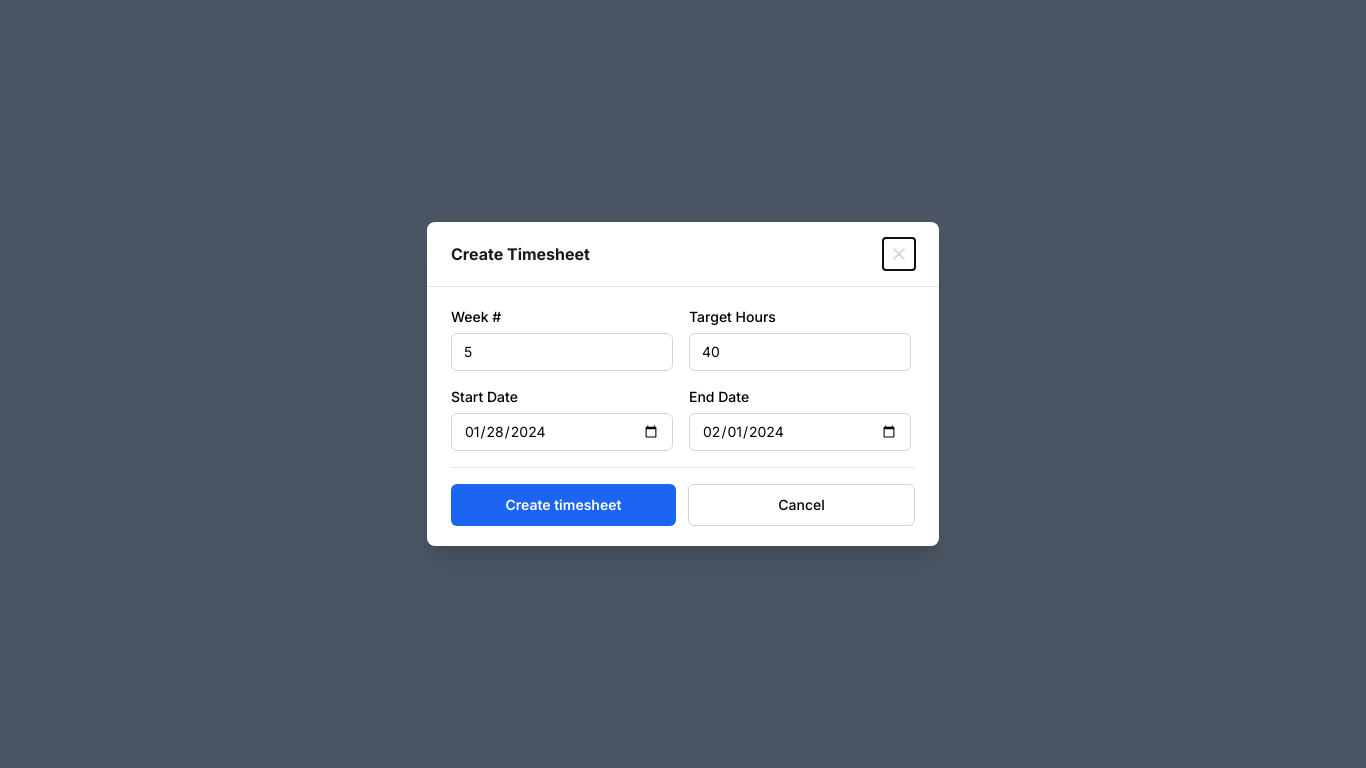
Test: TimesheetModal › shows validation errors for invalid form
Step 1. Clear the date field labelled "Start Date" → [562, 432], box [451,413,673,451]
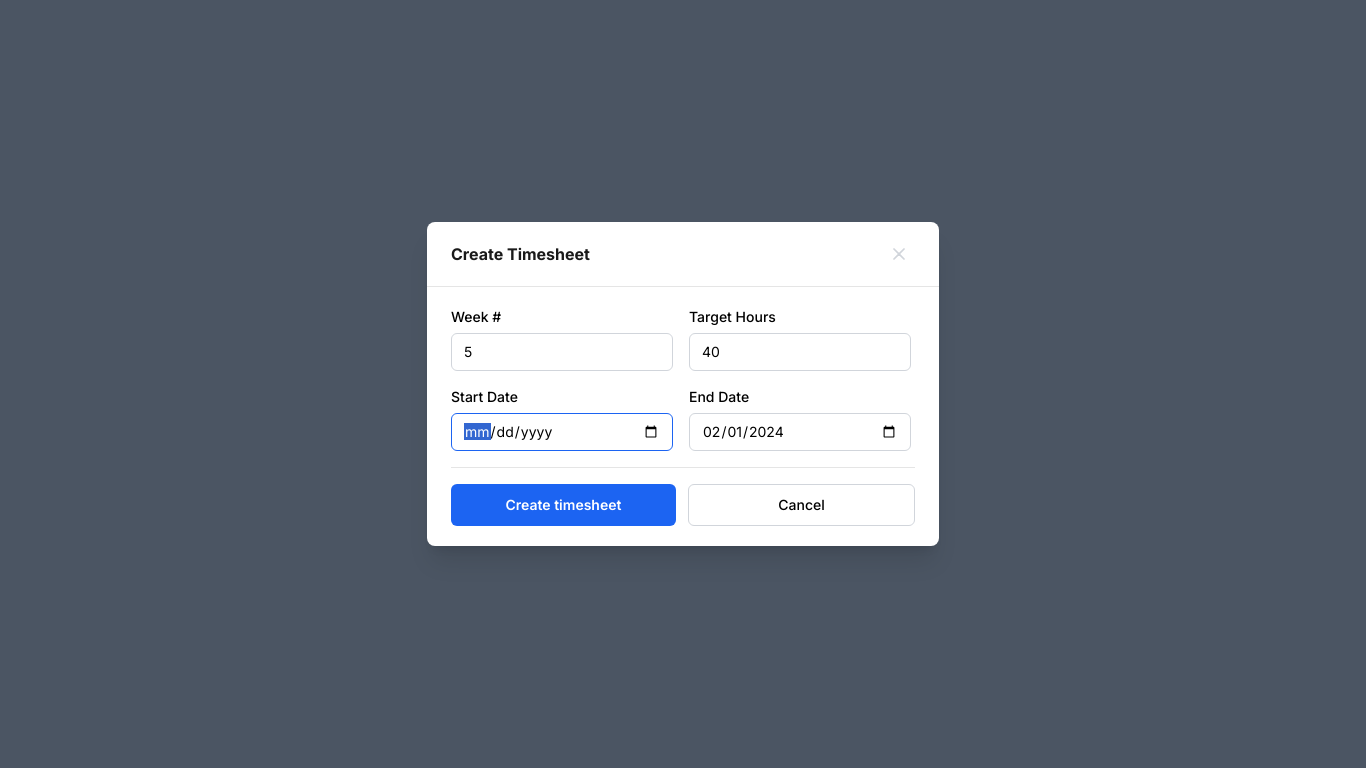
Step 2. Clear the date field labelled "End Date" → [800, 432], box [689,413,911,451]
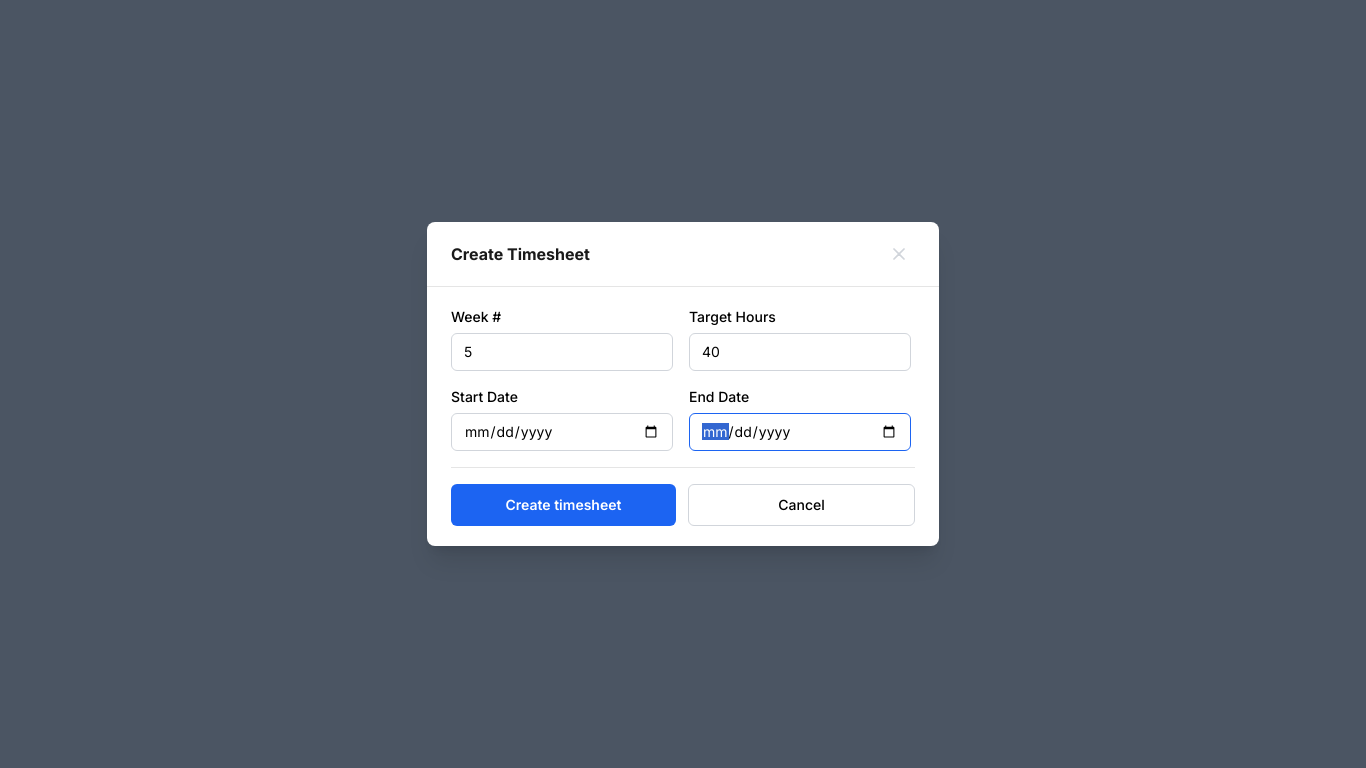
Step 3. Click the button "Create timesheet" → [564, 505], box [451,484,676,526]
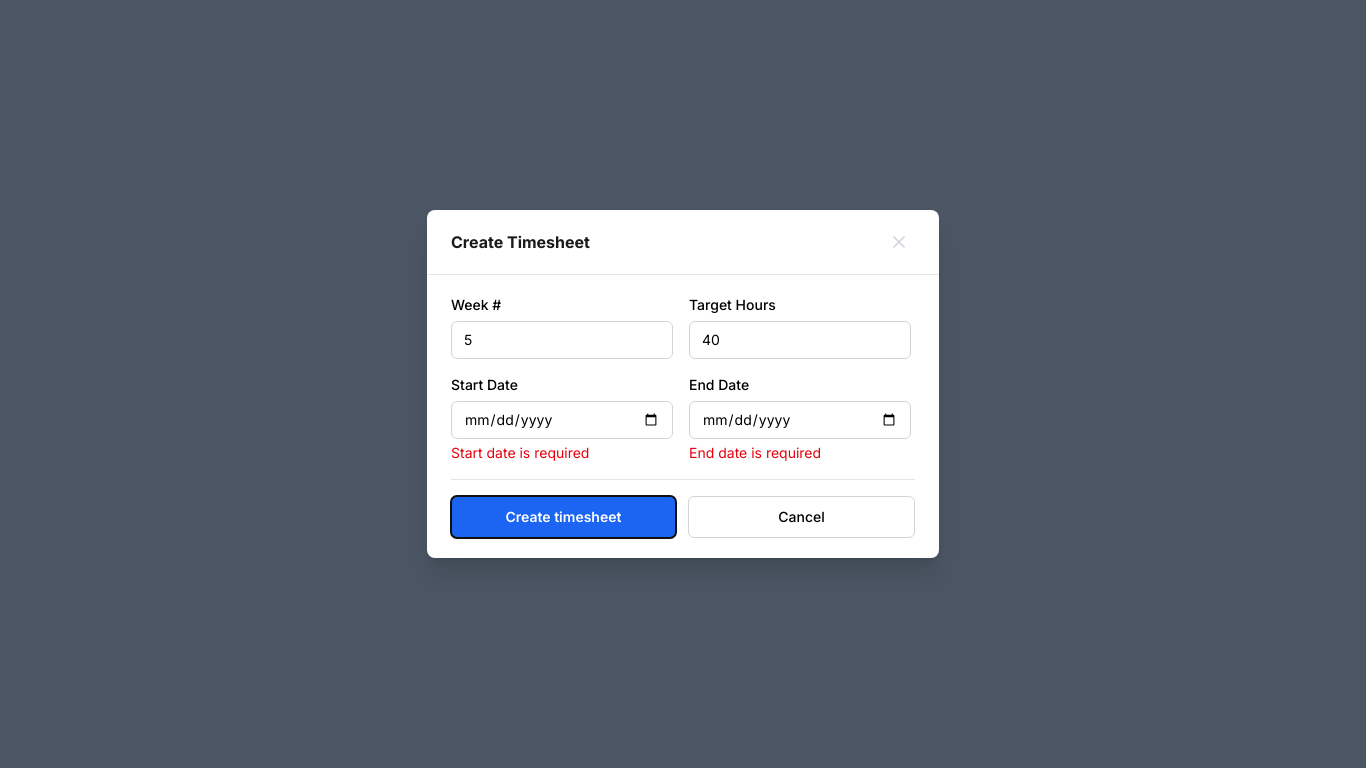
Now the text "Start date is required" is shown, box [451,444,589,461]
